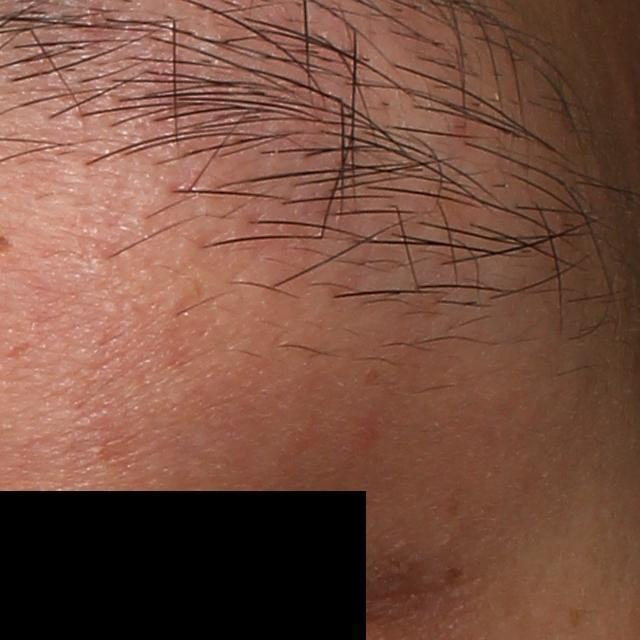melasma: (566, 605, 591, 633), (441, 566, 468, 582)
